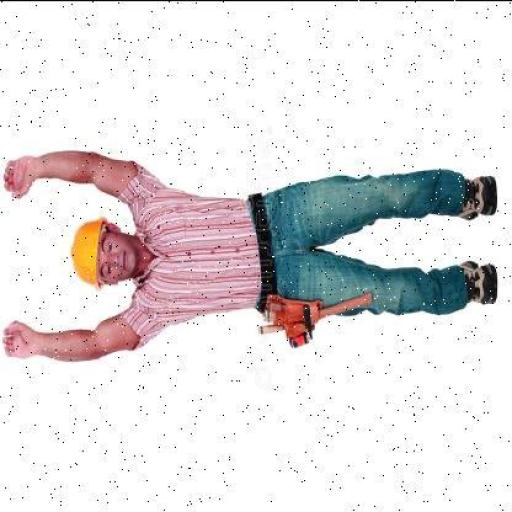person: (3, 152, 495, 354)
safety_shoe: (457, 164, 499, 224), (463, 260, 496, 300)
